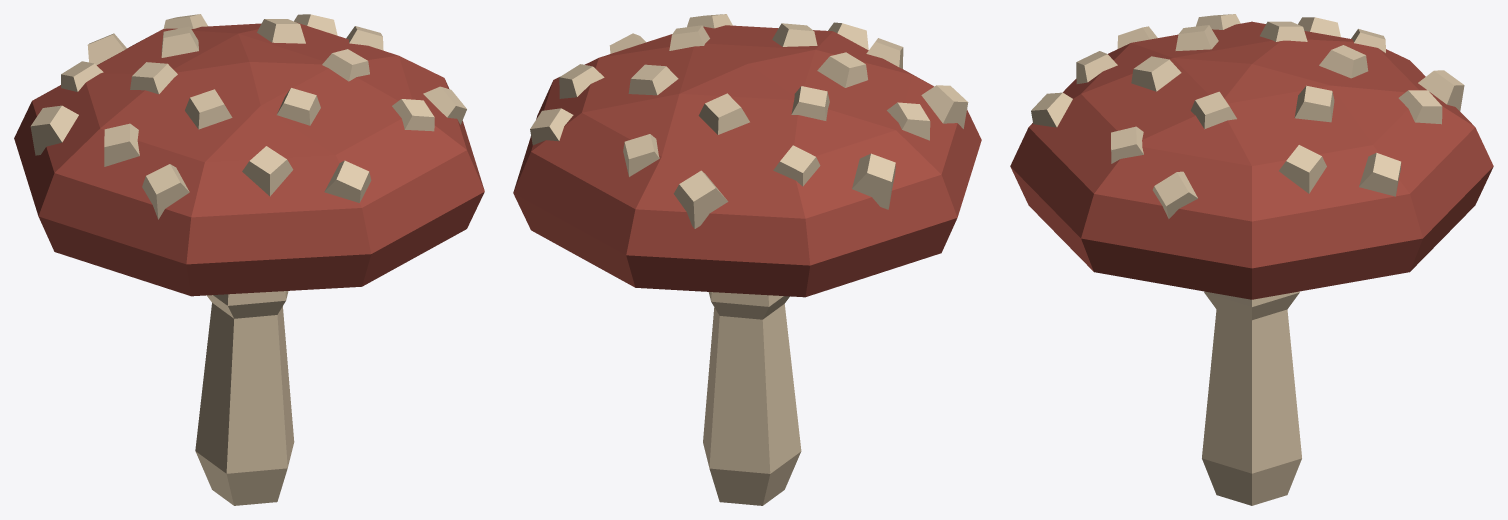
Rendered from SM_Prop_Mushroom_05.fbx.
3 renders of one model, left to right at view 1: azimuth 30°, elevation 25°; view 2: azimuth 150°, elevation 25°; view 3: azimuth 270°, elevation 25°, orthographic.
Visible parts, largest first — view 1: SM_Prop_Mushroom_05; view 2: SM_Prop_Mushroom_05; view 3: SM_Prop_Mushroom_05.
Boxes of the visible parts, x1,y1,x2,y2 form: SM_Prop_Mushroom_05: [14, 14, 484, 505]; SM_Prop_Mushroom_05: [513, 14, 981, 505]; SM_Prop_Mushroom_05: [1010, 14, 1493, 505].
Bounding box in the file's own units: 20.28 × 19.93 × 20.28.
1 material, 1 textured.
